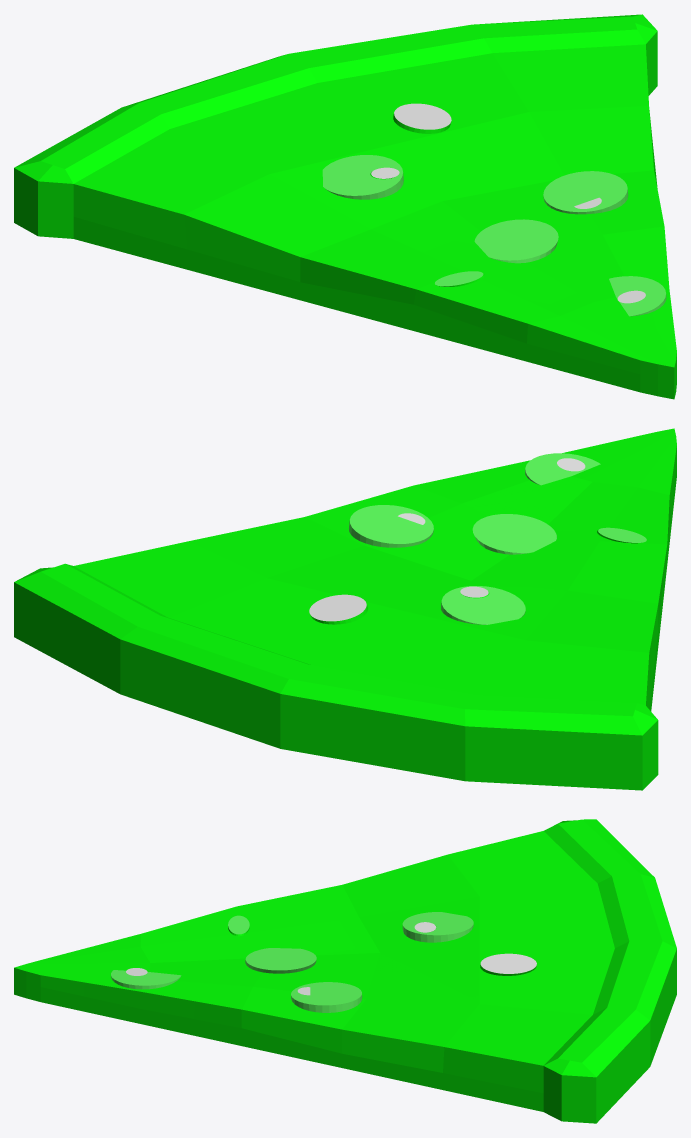
Rendered from GreenSlice.fbx.
3 renders of one model, top to bottom at view 1: azimuth 30°, elevation 25°; view 2: azimuth 150°, elevation 25°; view 3: azimuth 270°, elevation 25°, orthographic. The views are drawn at different scales.
Parts seen in each view (by area): view 1: Pizza_Slice; view 2: Pizza_Slice; view 3: Pizza_Slice.
Part boxes in pixels (x1,y1,x2,y2): Pizza_Slice: [14, 14, 676, 399]; Pizza_Slice: [14, 428, 676, 790]; Pizza_Slice: [14, 819, 676, 1123].
Size of the model in its own units: 107 by 10.36 by 116.
